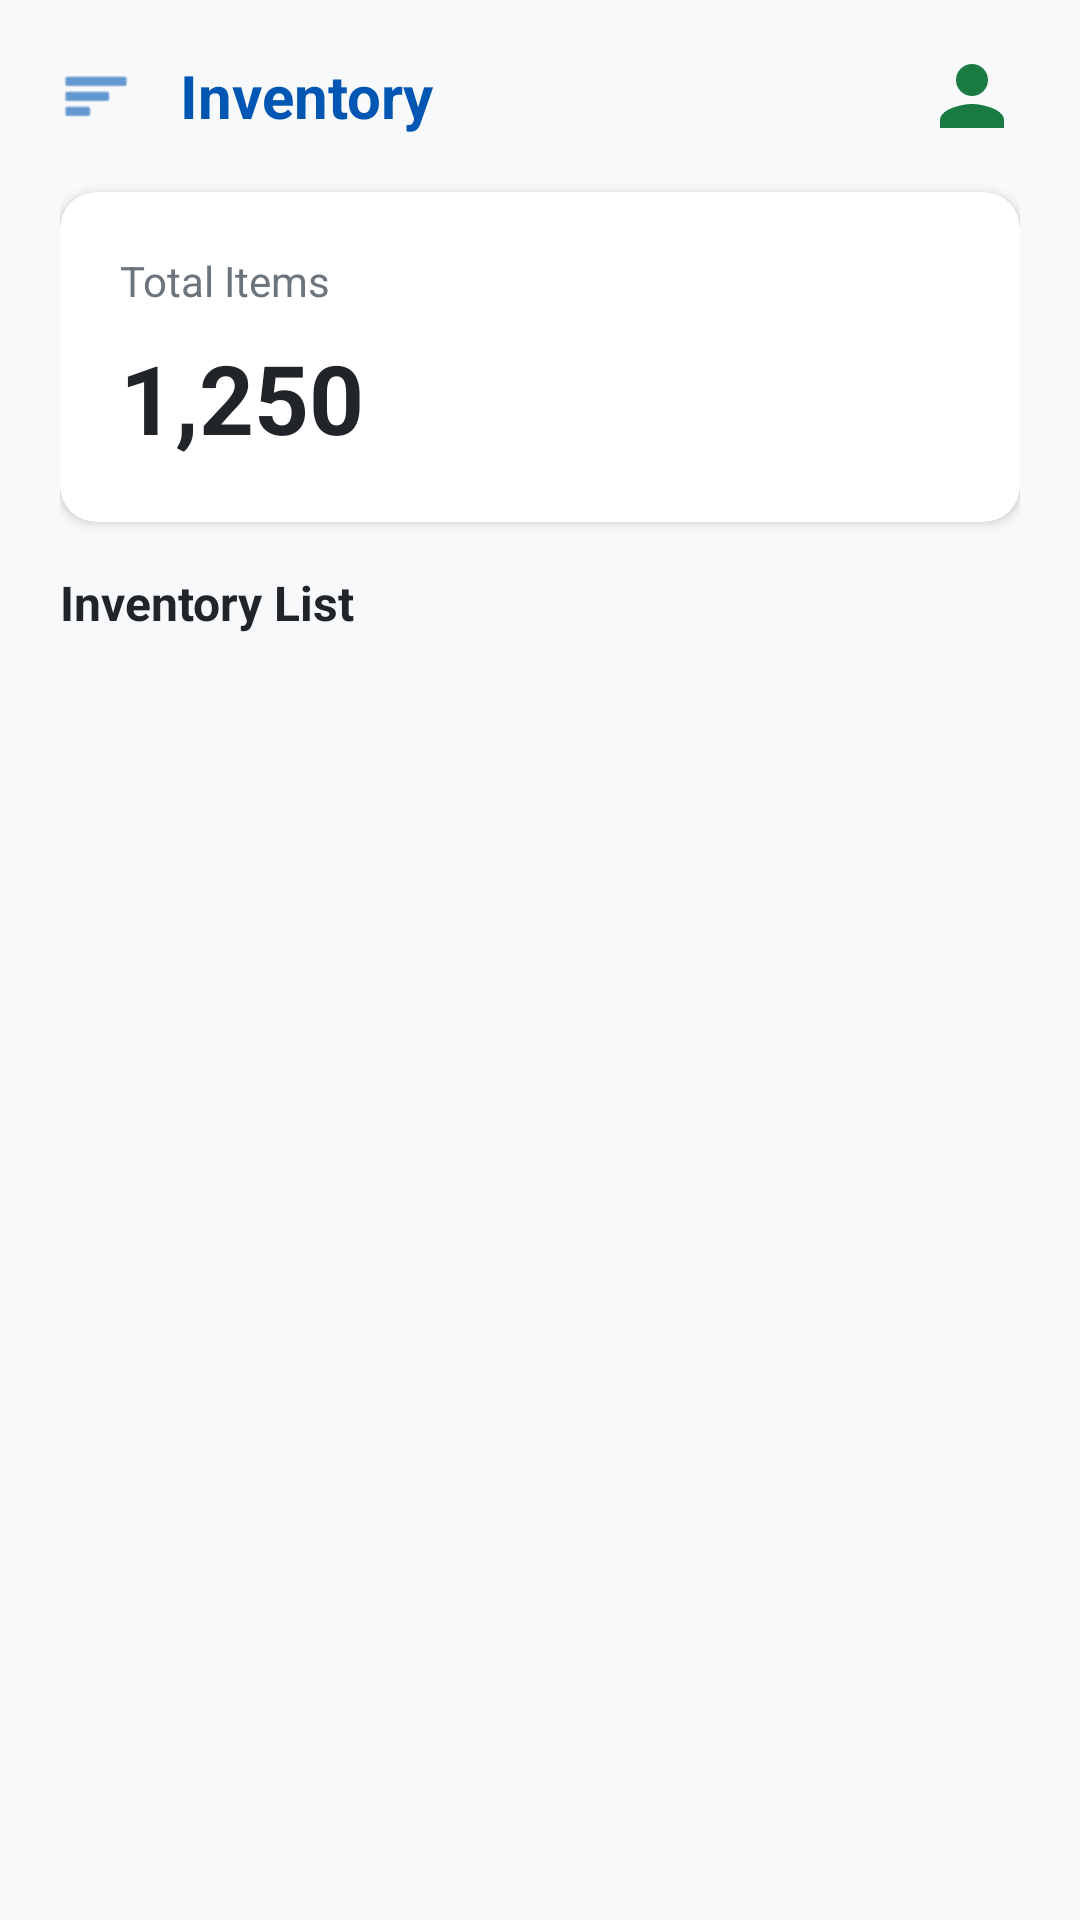

Screen size 1080 × 1920. Icon name, then its box in pixels as (x1, y1, x2, y2):
person: (940, 64, 1004, 128)
sort by size: (65, 76, 127, 117)
